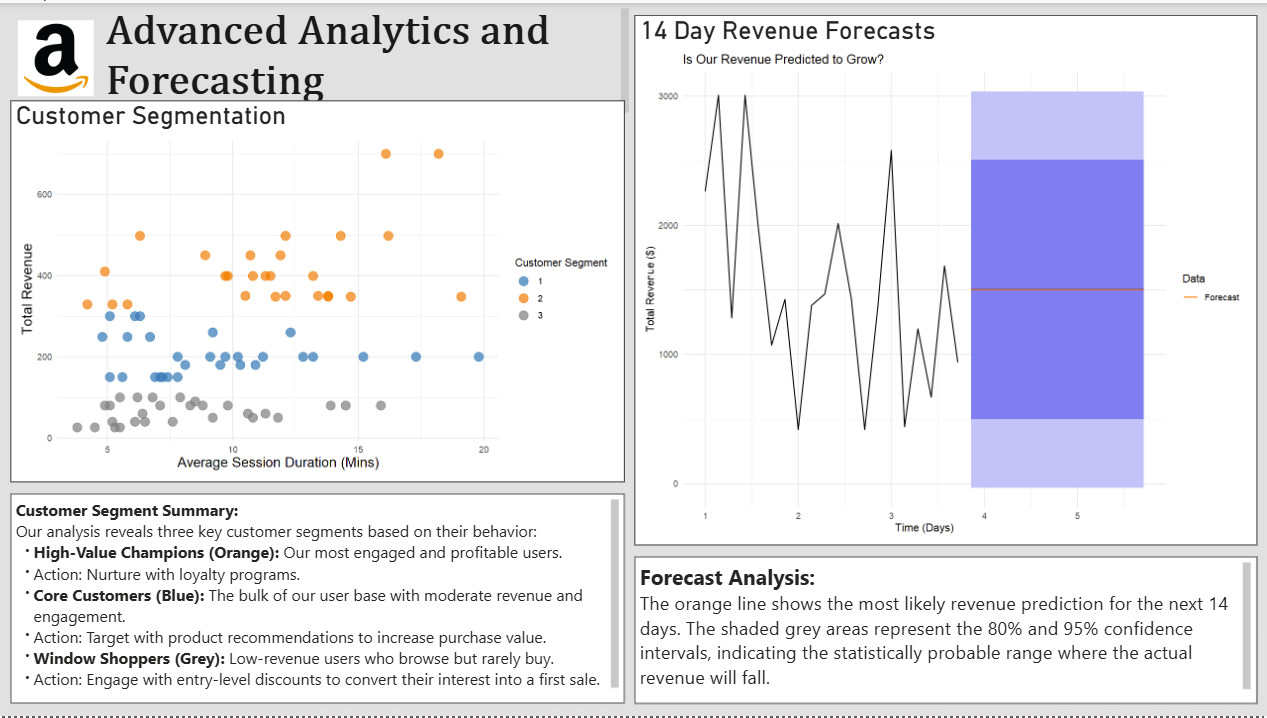

What the dashboard file says about the page in this screenshot:
{"tool":"powerbi","page":{"name":"Advanced Analytics and Forecasting","canvas":[1280,720],"ordinal":3},"visuals":[{"type":"textbox","box":[101.4,0,538.6,121.4],"z":0},{"type":"image","box":[10,11.7,91.7,86.7],"z":1000},{"type":"scriptVisual","title":"14 Day Revenue Forecasts","fields":{"Values":["Dates.Date.Variation.Date Hierarchy.Year","Dates.Date.Variation.Date Hierarchy.Quarter","Dates.Date.Variation.Date Hierarchy.Month","Dates.Date.Variation.Date Hierarchy.Day","_Key Measures.Total_Revenue"]},"box":[640,11.7,628.3,535],"z":2000},{"type":"textbox","box":[640,558.6,628.6,148.6],"z":3000},{"type":"textbox","box":[10,495,620,211.7],"z":4000},{"type":"scriptVisual","title":"Customer Segmentation","fields":{"Values":["UserMetrics.AvgSessionDuration","UserMetrics.TotalConversions","UserMetrics.TotalRevenue"]},"box":[10,98.3,620,385],"z":5000}]}

Visuals, with their boxes in screenshot pixels (x1, y1, x2, y2), scaled from the page's 1280x720 canvas onto the 1267x718 screenshot:
textbox: {"left": 100, "top": 0, "right": 634, "bottom": 121}
image: {"left": 10, "top": 12, "right": 101, "bottom": 98}
"14 Day Revenue Forecasts" scriptVisual: {"left": 634, "top": 12, "right": 1255, "bottom": 545}
textbox: {"left": 634, "top": 557, "right": 1256, "bottom": 705}
textbox: {"left": 10, "top": 494, "right": 624, "bottom": 705}
"Customer Segmentation" scriptVisual: {"left": 10, "top": 98, "right": 624, "bottom": 482}
